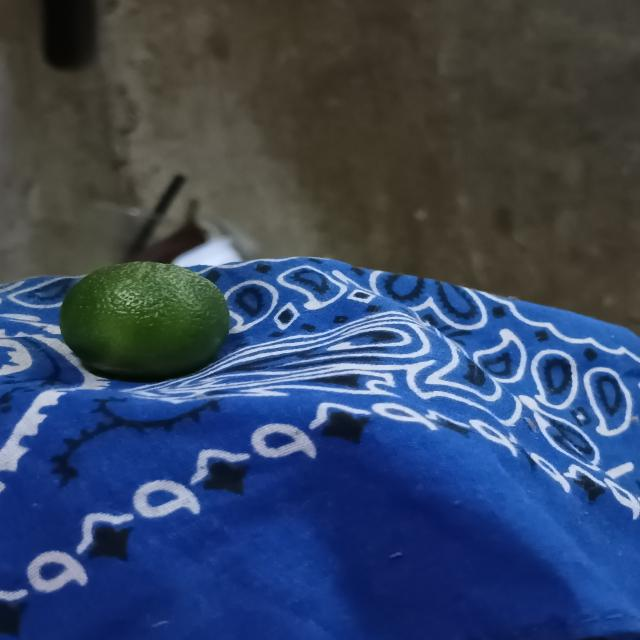heathy: (56, 258, 234, 380)
